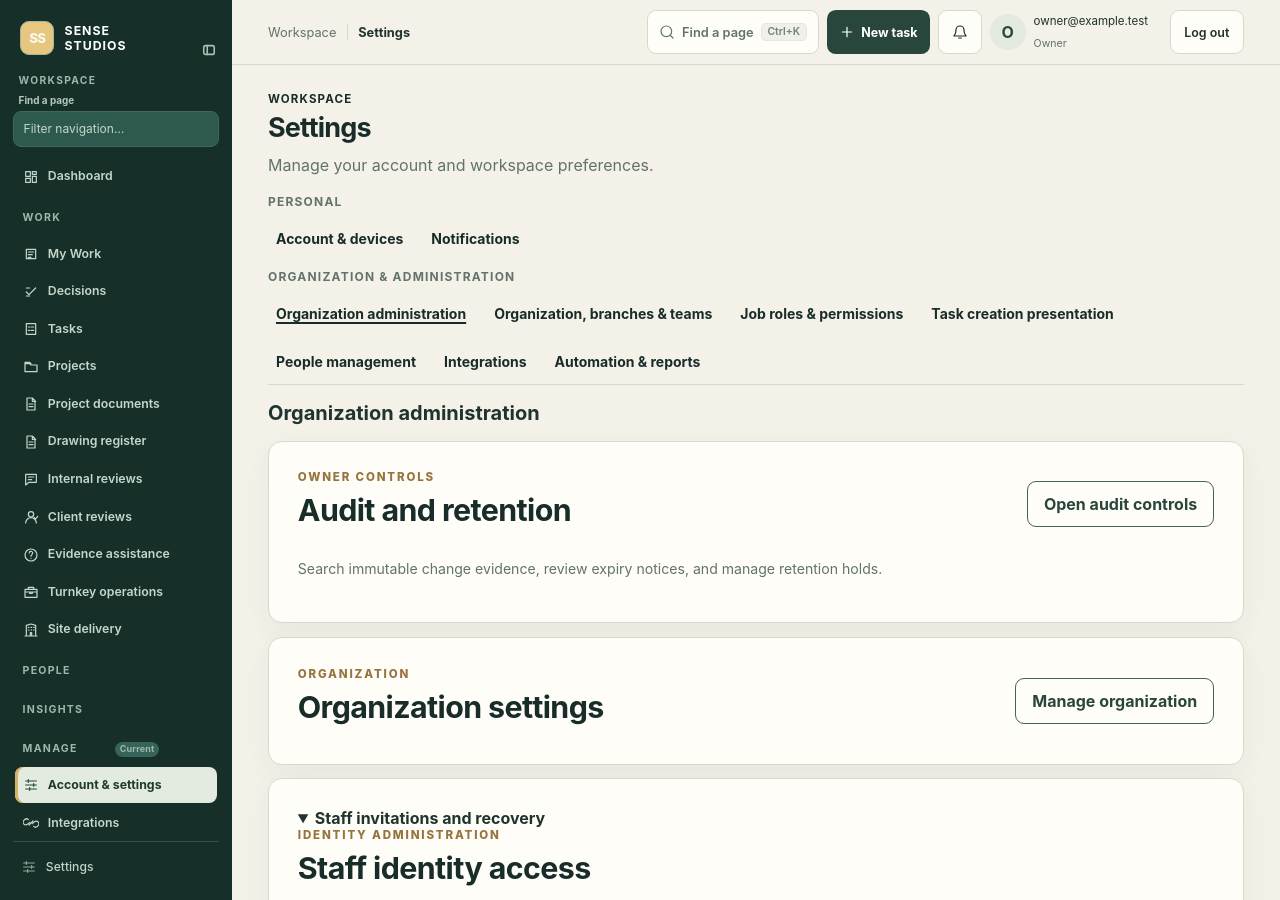
Test: identity authentication shell › offers organization setup for the server's successful empty response without a false load error
Click the button "Manage organization".
click(1115, 701)  # box [1015, 678, 1214, 724]
(page scrolled)
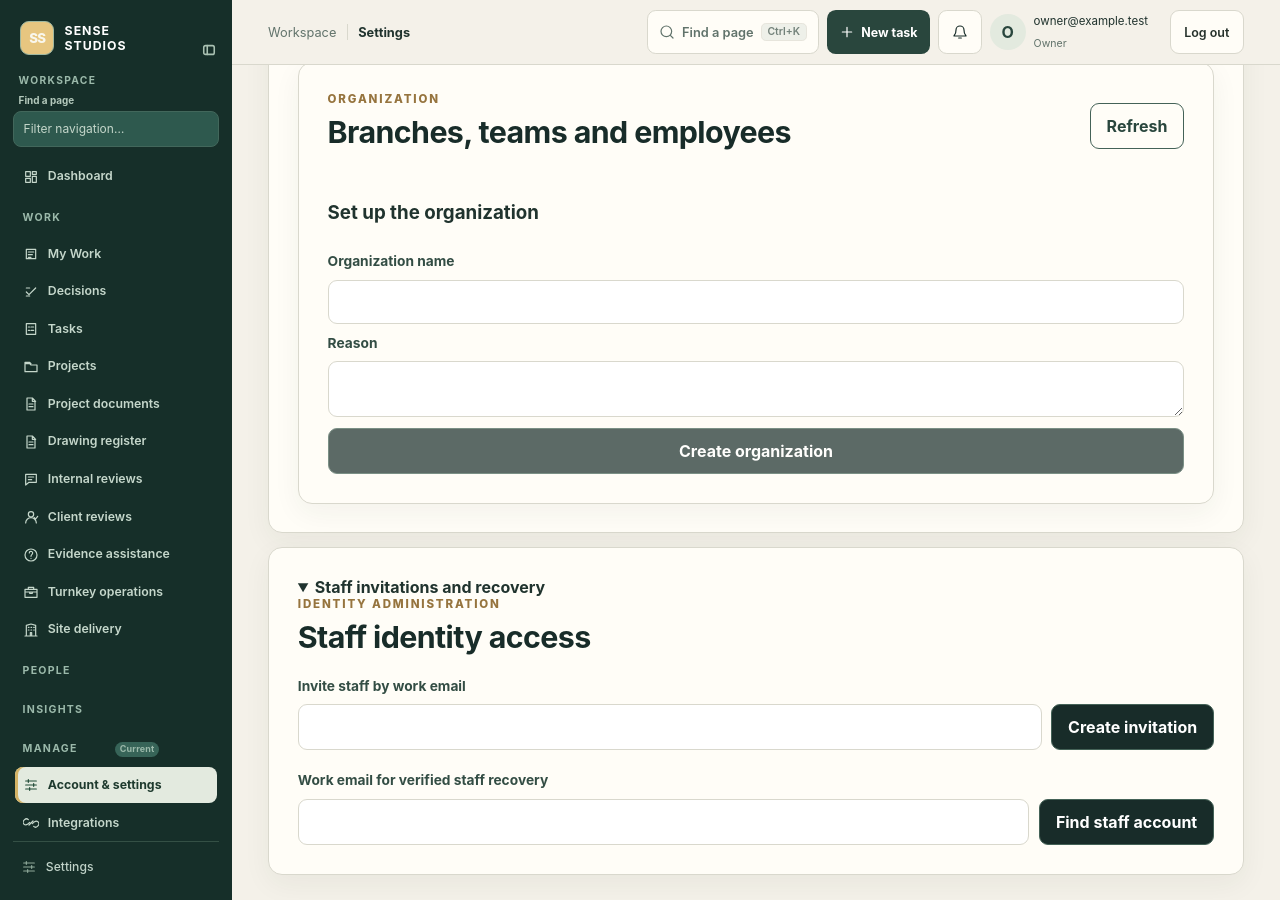
Expected: the heading "Set up the organization" is shown, [328, 201, 539, 224]
Expected: the button "Create organization" is disabled, [328, 428, 1184, 474]
